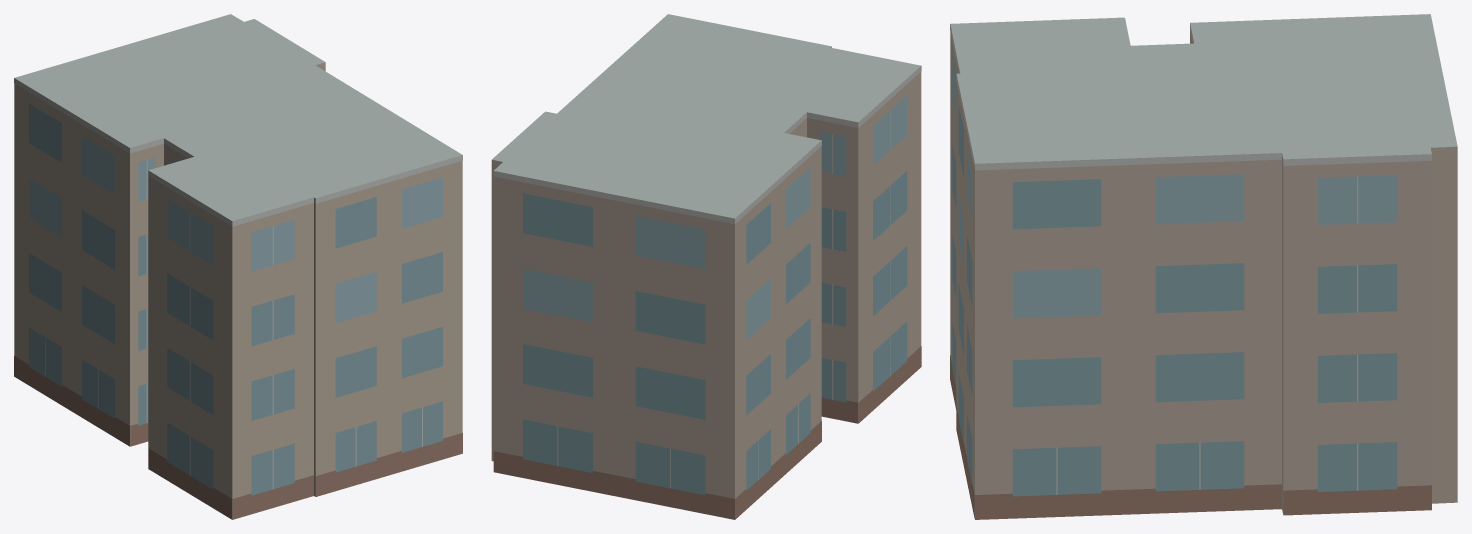
Rendered from survey-upis-32613433.glb.
The picture shows the model from 3 angles, left to right: view 1: azimuth 30°, elevation 25°; view 2: azimuth 150°, elevation 25°; view 3: azimuth 270°, elevation 25°; orthographic projection. The views are drawn at different scales.
Parts seen in each view (by area): view 1: survey-upis-32613433.tmp; view 2: survey-upis-32613433.tmp; view 3: survey-upis-32613433.tmp.
Part boxes in pixels (x1,y1,x2,y2): survey-upis-32613433.tmp: [14, 14, 462, 519]; survey-upis-32613433.tmp: [491, 14, 921, 519]; survey-upis-32613433.tmp: [950, 14, 1457, 519].
Size of the model in its own units: 11.88 by 13.15 by 17.
